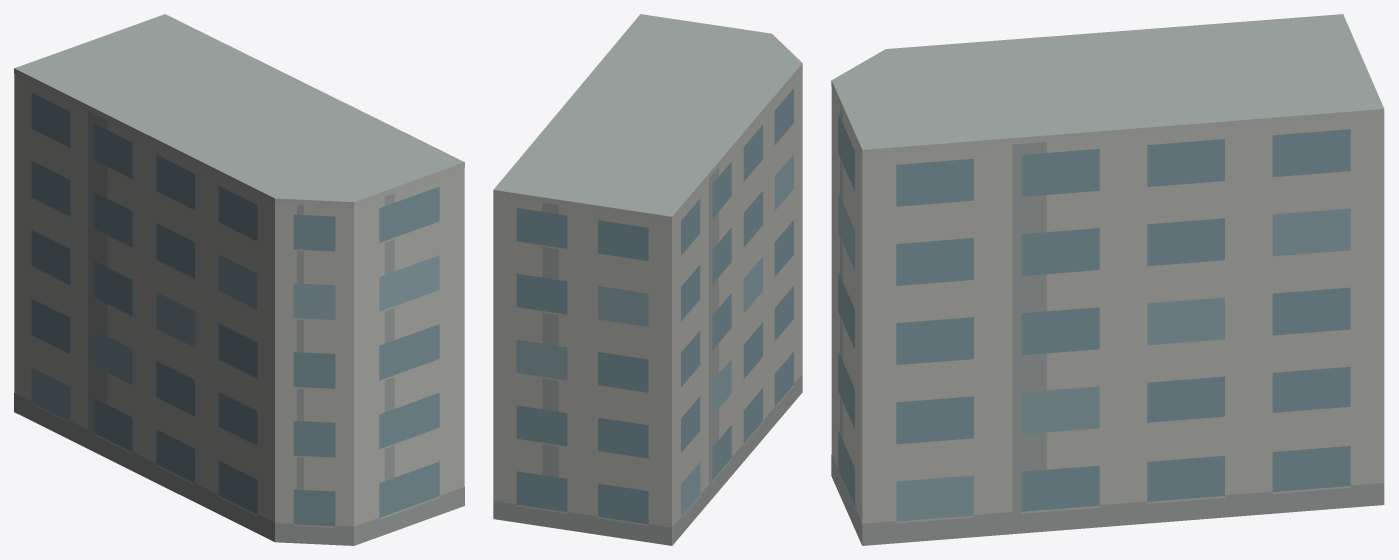
File: residential-811917df-775f-4f79-aec1-f32626d18123.glb
The picture shows the model from 3 angles, left to right: view 1: azimuth 30°, elevation 25°; view 2: azimuth 150°, elevation 25°; view 3: azimuth 270°, elevation 25°; orthographic projection. The views are drawn at different scales.
Parts seen in each view (by area): view 1: residential-811917df-775f-4f79-aec1-f32626d18123.tmp; view 2: residential-811917df-775f-4f79-aec1-f32626d18123.tmp; view 3: residential-811917df-775f-4f79-aec1-f32626d18123.tmp.
Boxes of the visible parts, <box> form: residential-811917df-775f-4f79-aec1-f32626d18123.tmp: <box>14,14,464,545</box>; residential-811917df-775f-4f79-aec1-f32626d18123.tmp: <box>493,14,802,545</box>; residential-811917df-775f-4f79-aec1-f32626d18123.tmp: <box>831,14,1384,545</box>.
Size of the model in its own units: 11.05 by 15 by 18.99.
